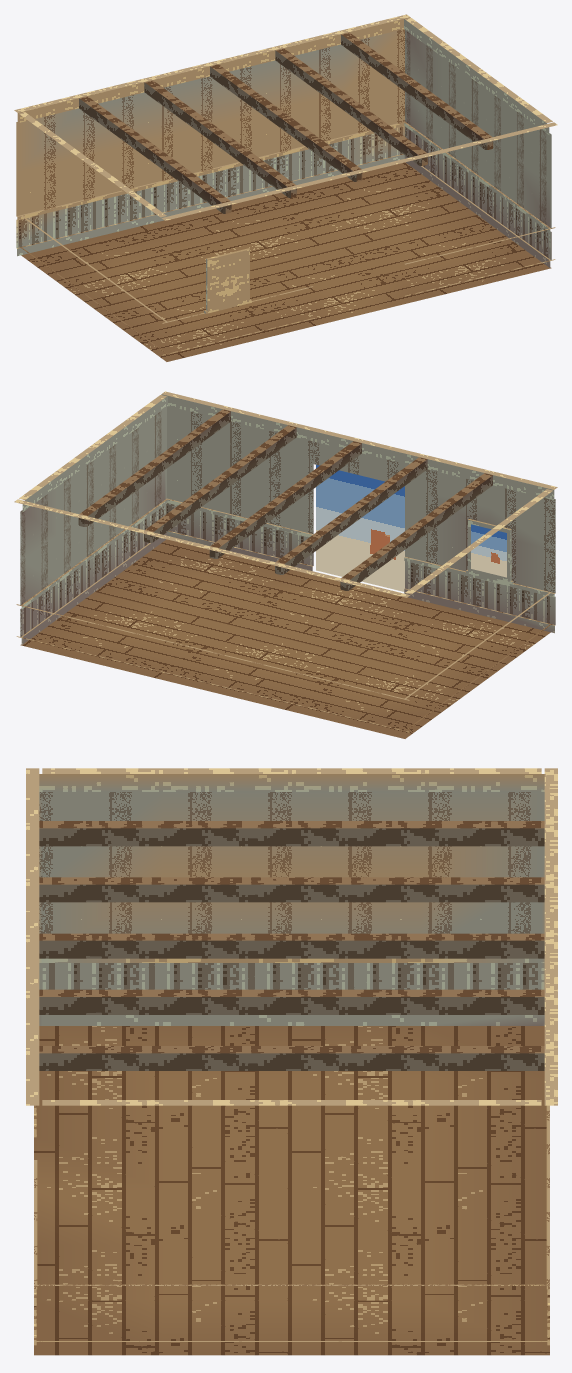
Rendered from wtown.room__store.glb.
3 renders of one model, top to bottom at view 1: azimuth 30°, elevation 25°; view 2: azimuth 150°, elevation 25°; view 3: azimuth 270°, elevation 25°, orthographic. The views are drawn at different scales.
Parts seen in each view (by area): view 1: kit_shell_walls, kit_shell_floor, kit_beams, kit_windows; view 2: kit_shell_walls, kit_shell_floor, kit_beams, kit_card_door_views, kit_card_views, kit_windows; view 3: kit_shell_floor, kit_shell_walls, kit_beams.
Boxes of the visible parts, x1,y1,x2,y2 form: kit_shell_walls: (14, 14, 557, 355); kit_shell_floor: (21, 162, 551, 361); kit_beams: (79, 32, 493, 213); kit_windows: (204, 248, 251, 313); kit_shell_walls: (14, 391, 557, 732); kit_shell_floor: (20, 539, 550, 738); kit_beams: (78, 409, 492, 590); kit_card_door_views: (316, 464, 404, 591); kit_card_views: (471, 524, 506, 577); kit_windows: (466, 519, 513, 584); kit_shell_floor: (34, 1026, 549, 1355); kit_shell_walls: (26, 768, 557, 1345); kit_beams: (39, 821, 544, 1070).
Size of the model in its own units: 12 by 4.25 by 8.18.
Materials: 7 (7 with a texture image).
